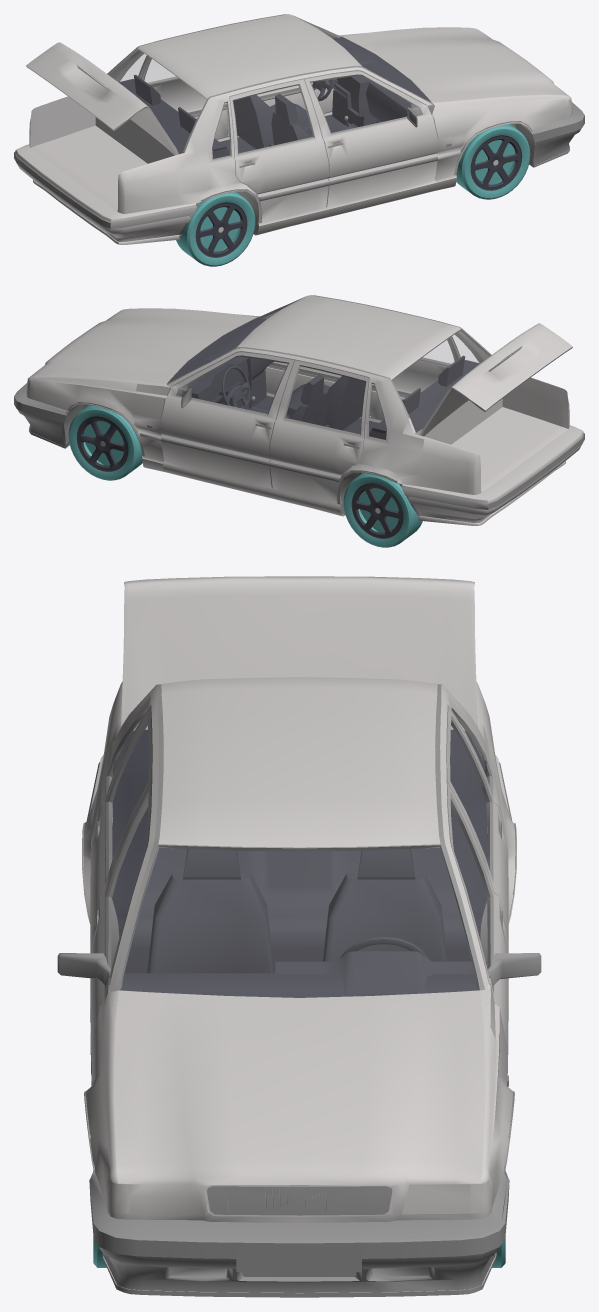
Rendered from volvo.FBX.
The picture shows the model from 3 angles, top to bottom: view 1: azimuth 30°, elevation 25°; view 2: azimuth 150°, elevation 25°; view 3: azimuth 270°, elevation 25°; orthographic projection. The views are drawn at different scales.
Parts seen in each view (by area): view 1: Volvo, glass, trunk, wheel03, wheel00; view 2: Volvo, glass, trunk, wheel02, wheel01, car wheel; view 3: Volvo, glass, trunk.
Boxes of the visible parts, bbox=[...] form: Volvo: bbox=[14, 14, 584, 244]; glass: bbox=[109, 20, 429, 158]; trunk: bbox=[26, 42, 178, 155]; wheel03: bbox=[456, 124, 530, 199]; wheel00: bbox=[176, 192, 255, 266]; Volvo: bbox=[14, 295, 584, 525]; glass: bbox=[169, 301, 489, 439]; trunk: bbox=[420, 323, 572, 436]; wheel02: bbox=[343, 473, 422, 547]; wheel01: bbox=[68, 405, 142, 480]; car wheel: bbox=[221, 366, 250, 409]; Volvo: bbox=[57, 677, 541, 1297]; glass: bbox=[109, 718, 489, 997]; trunk: bbox=[121, 576, 477, 730].
Bounding box in the file's own units: 87.75 × 29.8 × 37.62.
